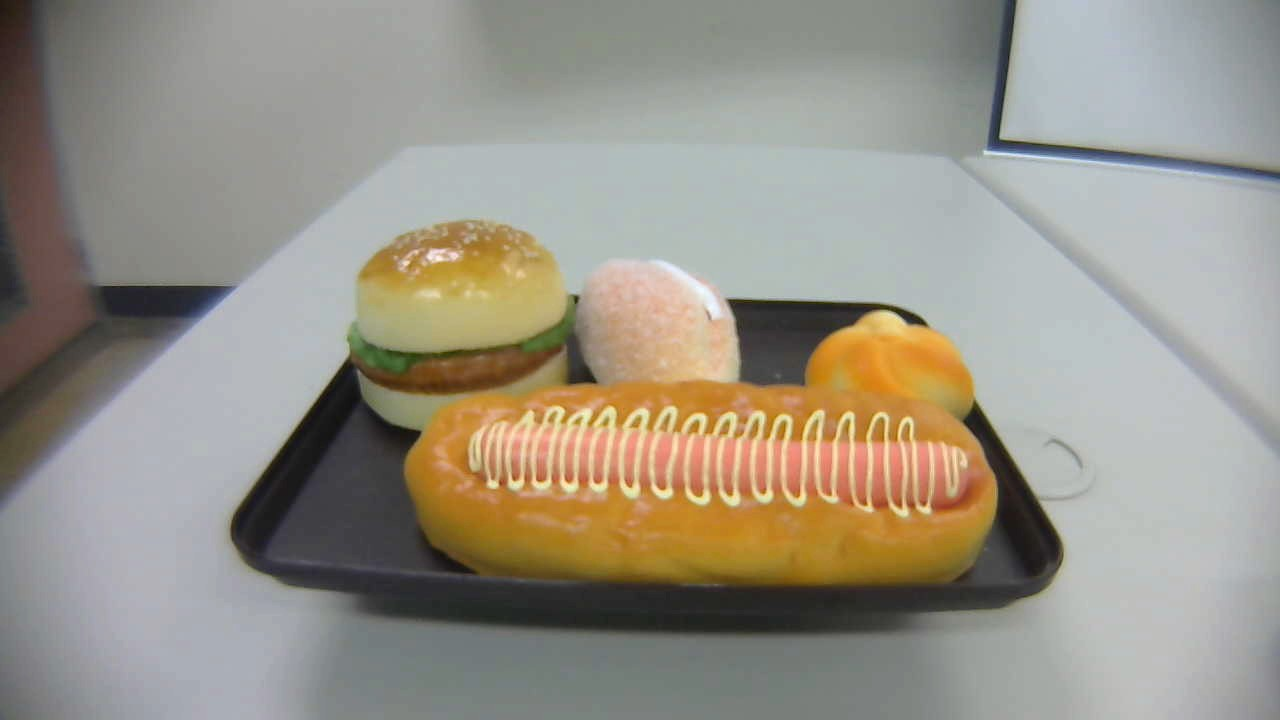coconut: (576, 259, 741, 405)
hamburger: (348, 219, 576, 435)
hot dog: (404, 380, 998, 588)
twist bread: (804, 308, 975, 447)
